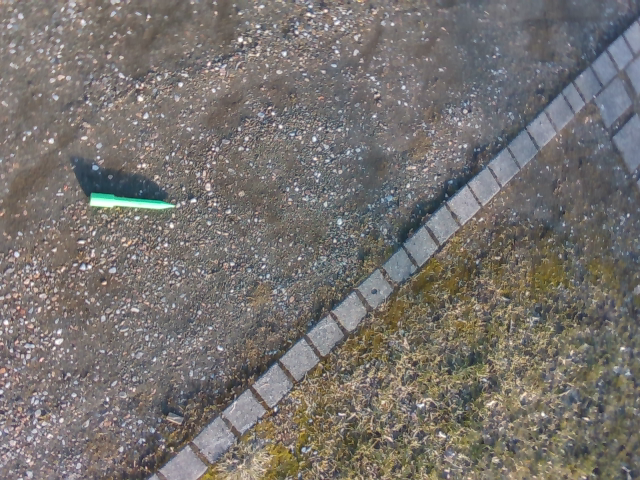Probe: (87, 188, 180, 216)
